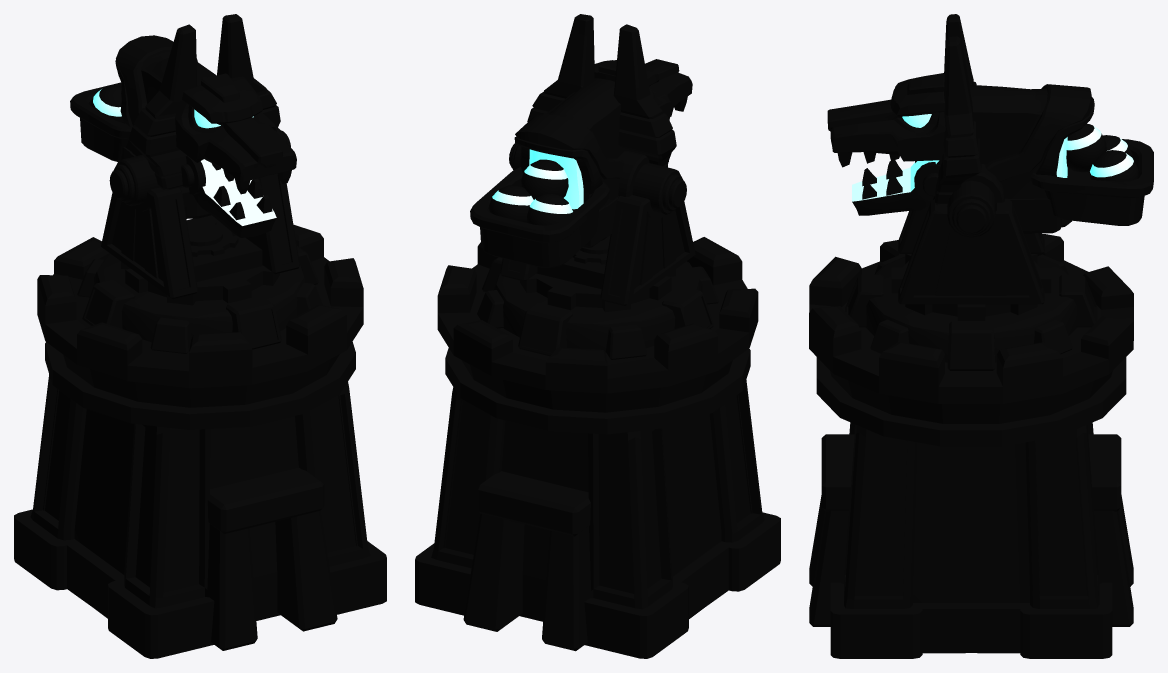
File: MyTower_Cannon.fbx
3 views of the same model, side by side, from view 1: azimuth 30°, elevation 25°; view 2: azimuth 150°, elevation 25°; view 3: azimuth 270°, elevation 25° (orthographic). The views are drawn at different scales.
Parts seen in each view (by area): view 1: building, Canon_head, base, stand; view 2: building, Canon_head, base, stand; view 3: building, Canon_head, base, stand.
Boxes of the visible parts, x1,y1,x2,y2 form: building: (14, 224, 386, 658); Canon_head: (70, 14, 296, 237); base: (101, 128, 299, 305); stand: (77, 246, 322, 353); building: (415, 237, 780, 658); Canon_head: (470, 14, 692, 267); base: (500, 143, 695, 312); stand: (477, 257, 718, 359); building: (809, 233, 1133, 658); Canon_head: (827, 14, 1153, 233); base: (891, 164, 1051, 320); stand: (845, 254, 1097, 370).
Size of the model in its own units: 0.7277 by 1.41 by 0.7724.
